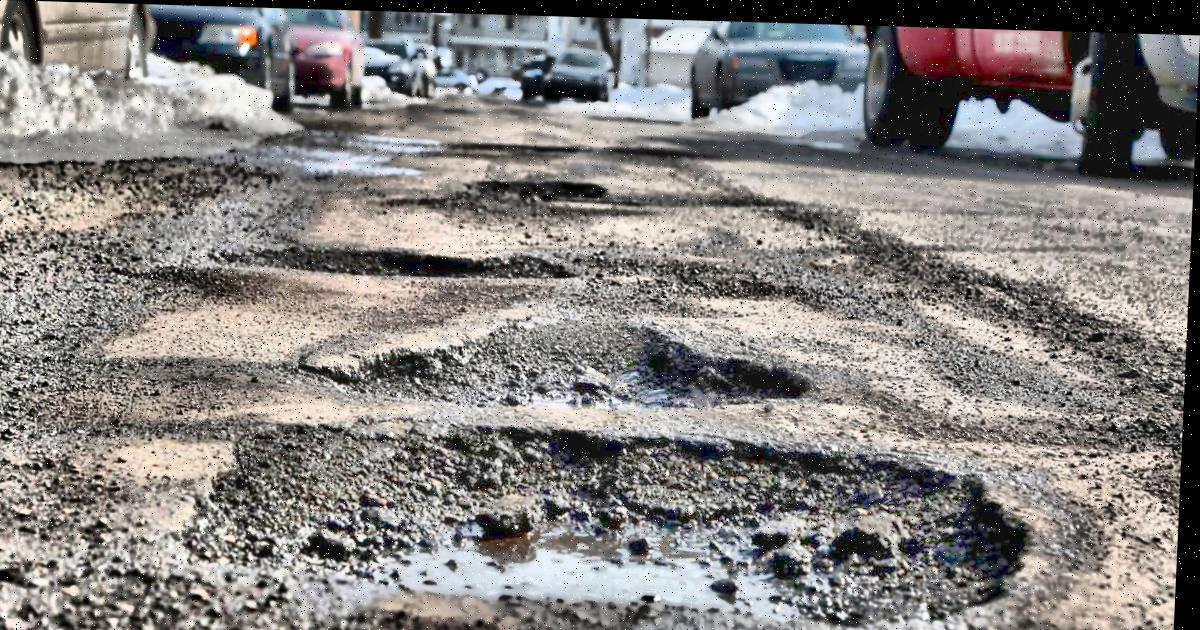pothole: (225, 403, 1042, 630), (301, 303, 826, 420), (209, 229, 577, 285), (473, 168, 609, 206)
